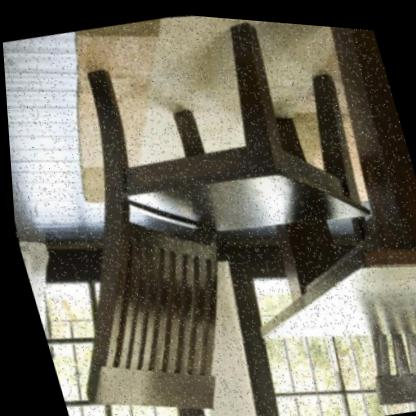Chair: (0, 0, 416, 416)
Table: (159, 10, 416, 389)
